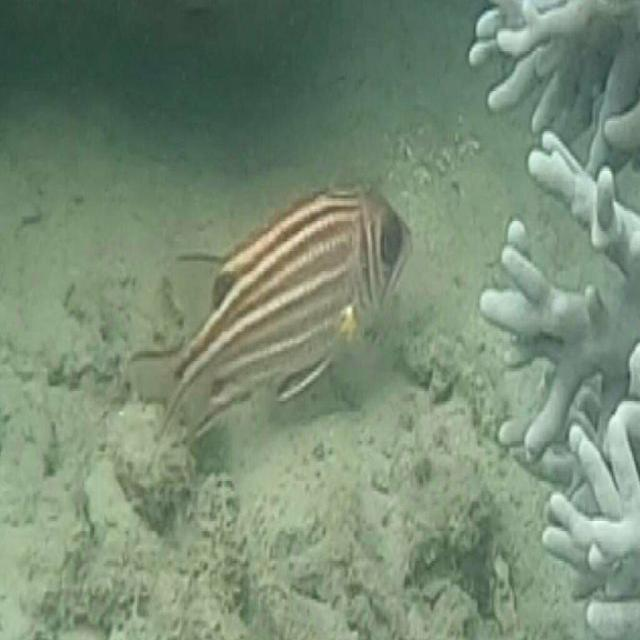Asker Baligi: (125, 160, 433, 470)
